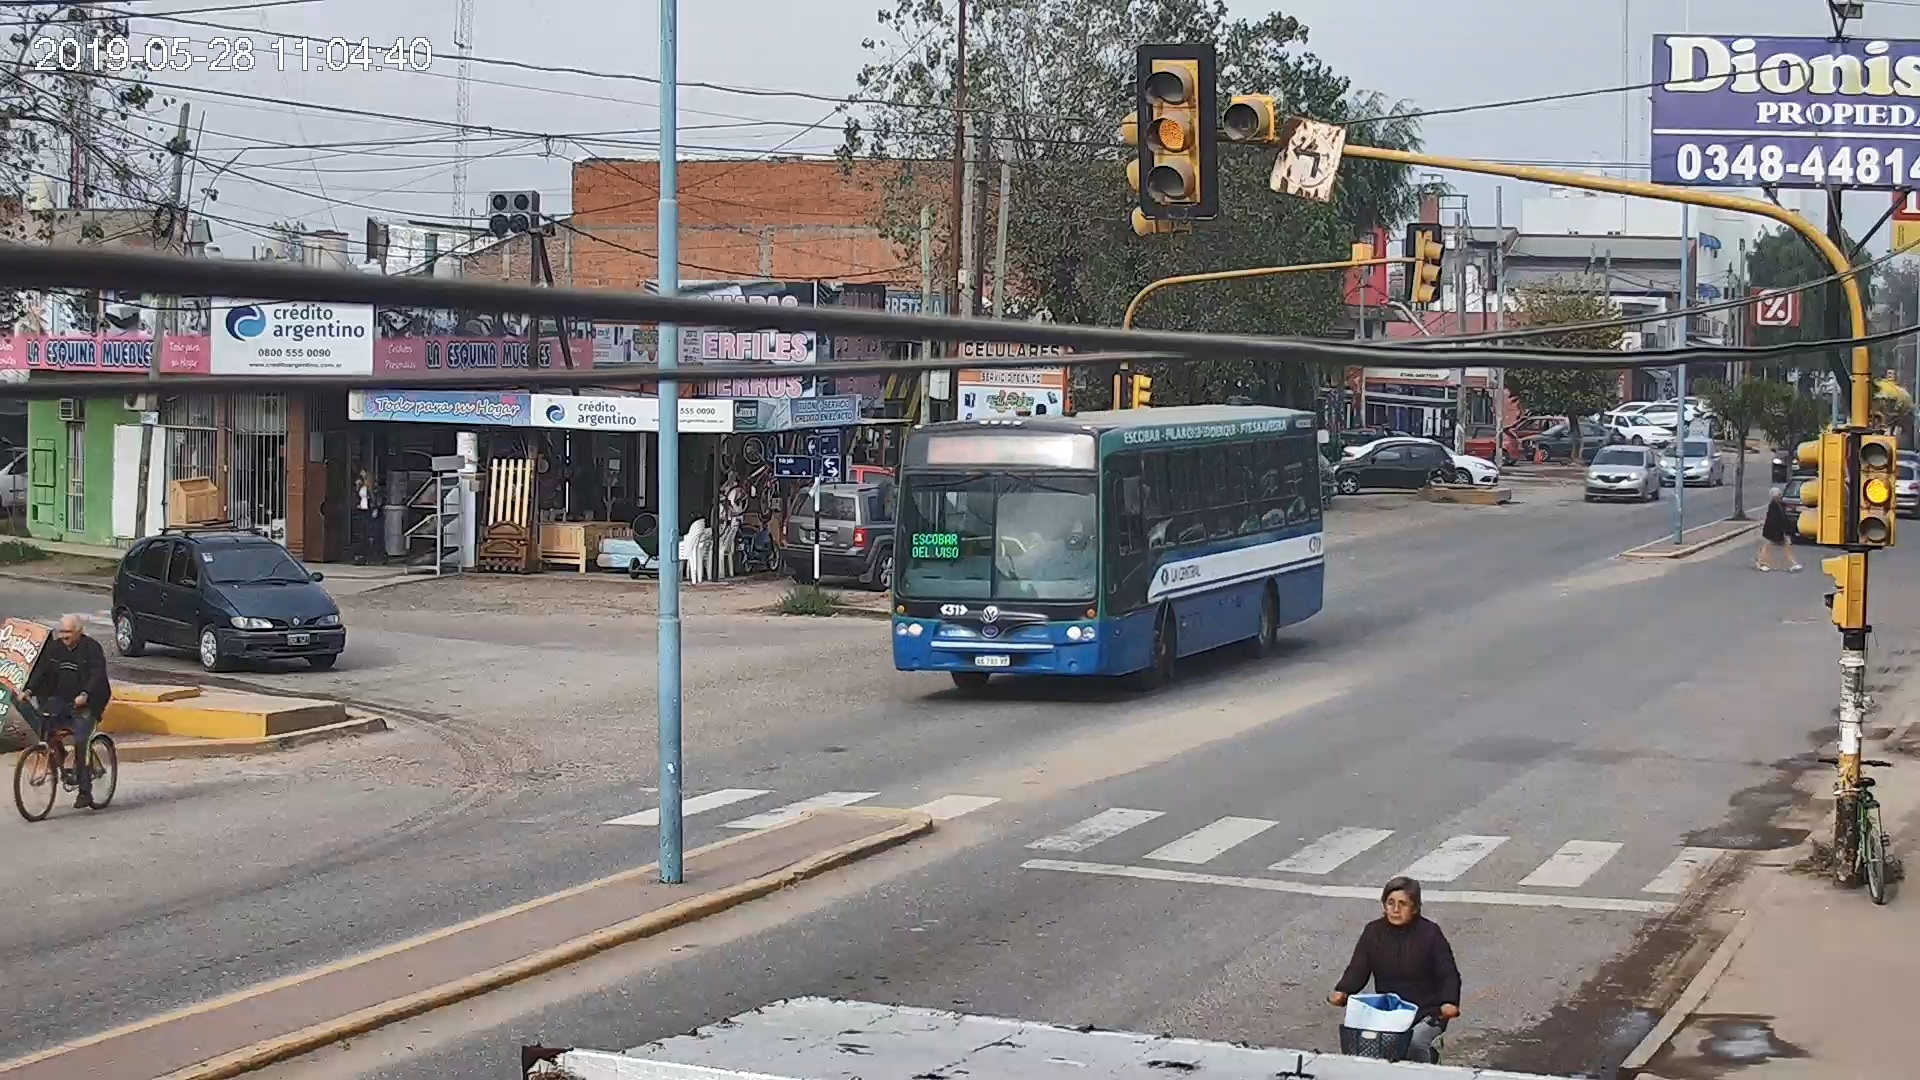bicycle: (7, 625, 135, 823)
bus: (870, 396, 1341, 713)
car: (98, 520, 349, 684), (1577, 430, 1659, 512)
